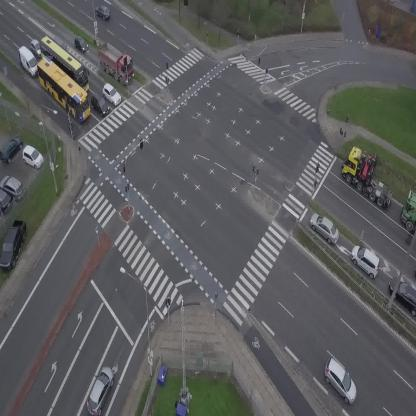bus: (29, 54, 100, 124), (32, 34, 98, 94)
car: (315, 356, 366, 406), (83, 364, 118, 416), (345, 242, 386, 280), (305, 209, 344, 246), (98, 81, 124, 107), (87, 91, 112, 118), (69, 33, 90, 55), (93, 2, 112, 22), (52, 35, 69, 49), (30, 39, 39, 57)
lorry: (333, 142, 409, 211), (88, 36, 142, 88), (12, 43, 43, 80), (402, 192, 416, 232)
